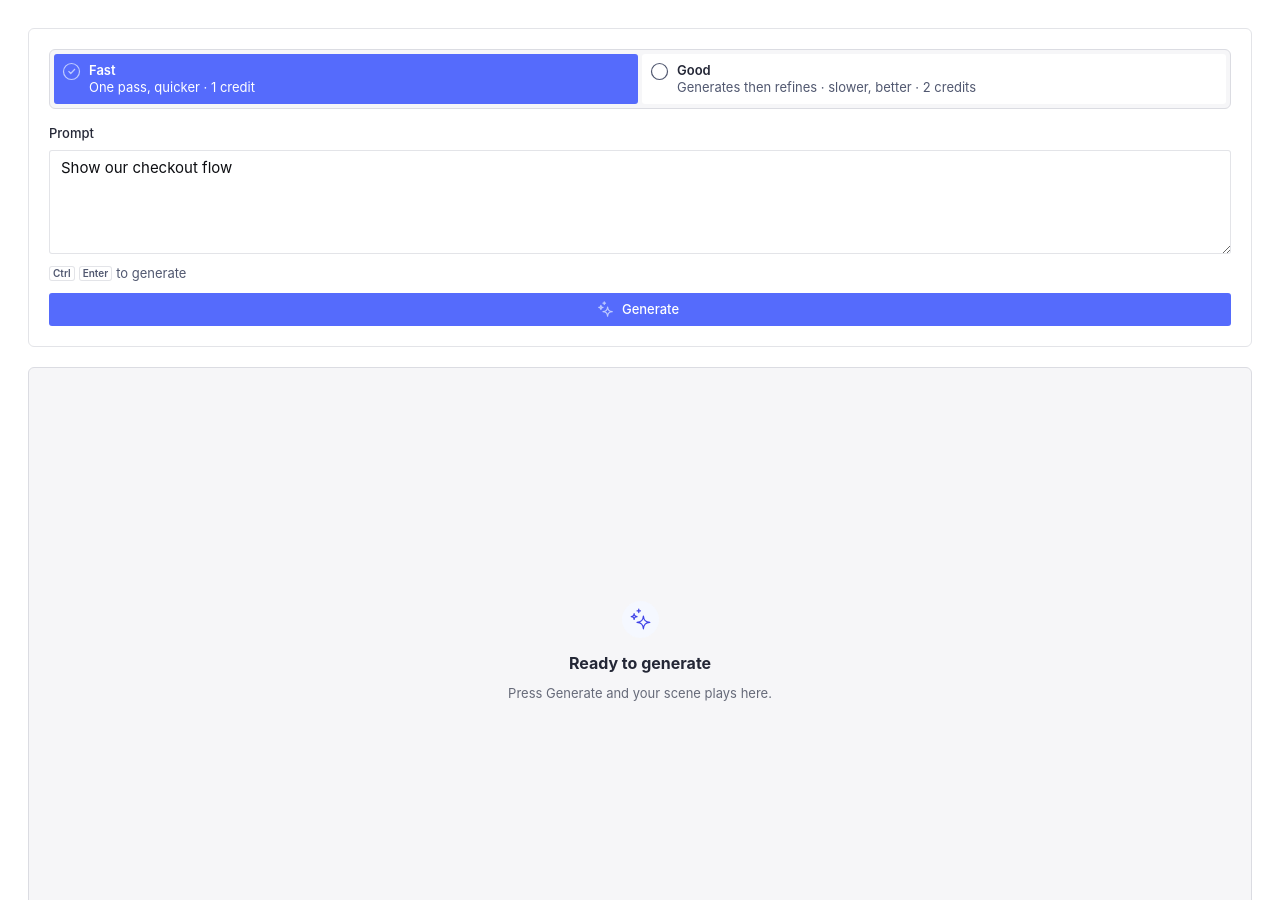
Scenario: AnimationWorkspace: generating › reports a run that throws instead of resolving
This screenshot has width=1280, height=900.
What coordinates should you click on to do the following:
click the button "Generate"
I would click on:
 (640, 310)
Its box is [49, 293, 1231, 326].
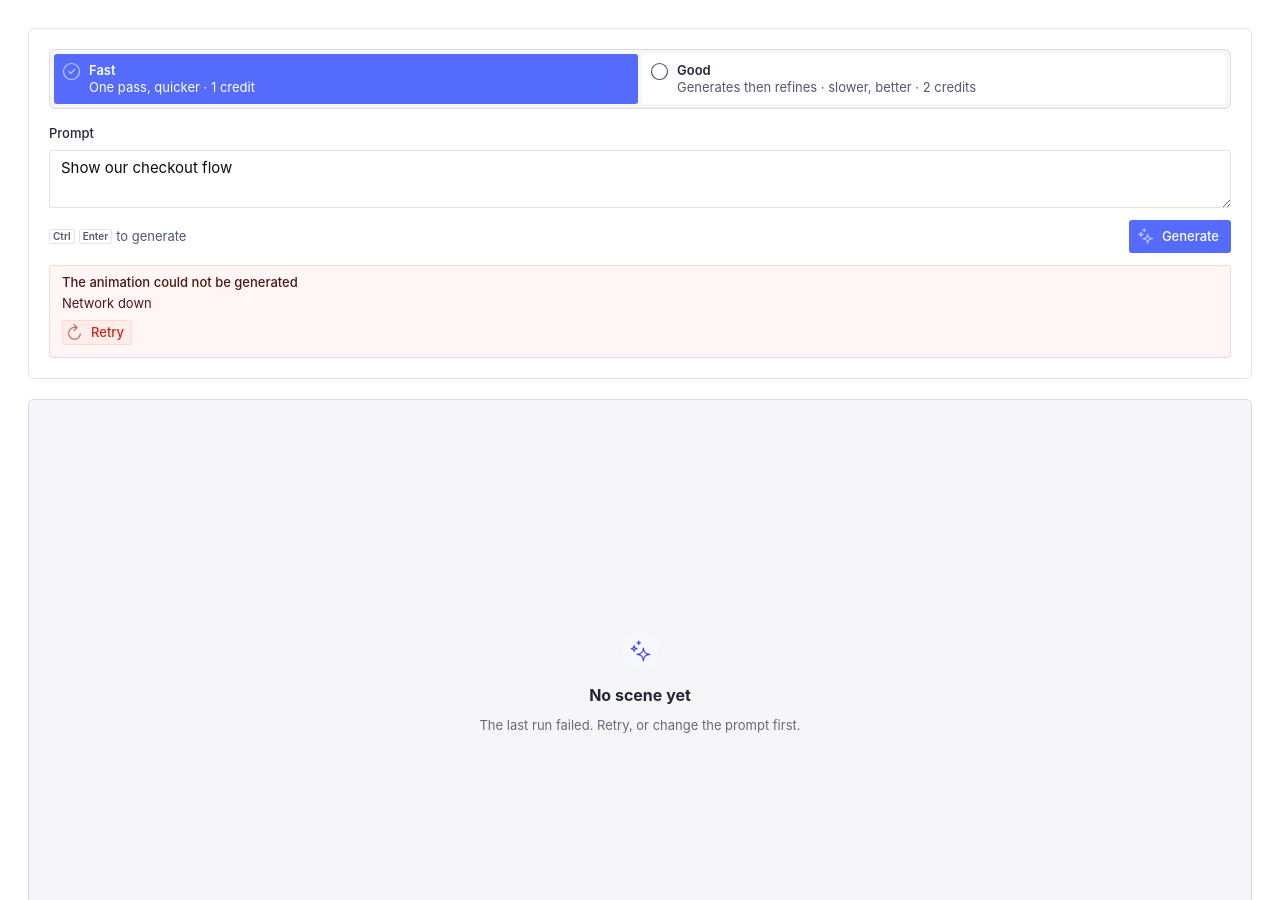
Expected: the message shows "Network down", [62, 295, 152, 311]
